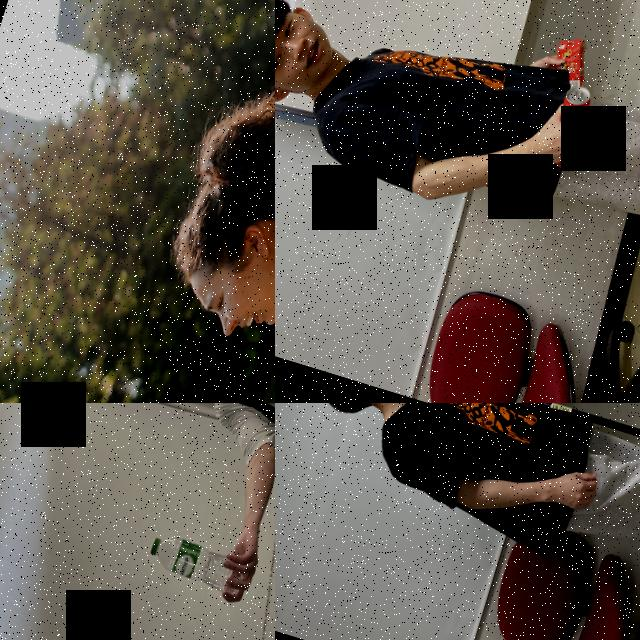bottle: (144, 527, 250, 596)
can: (542, 80, 602, 175)
